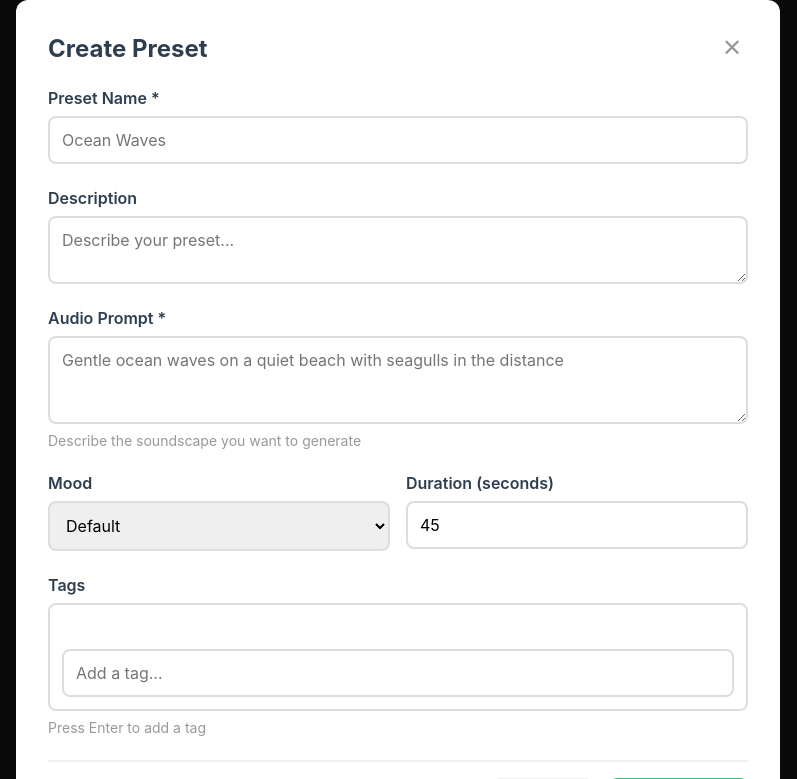
Test: PresetEditor › adds tag when enter is pressed
The width and height of the screenshot is (797, 779).
Type "nature" into the field with placeholder "Add a tag..." at (398, 673), box [62, 649, 734, 697]
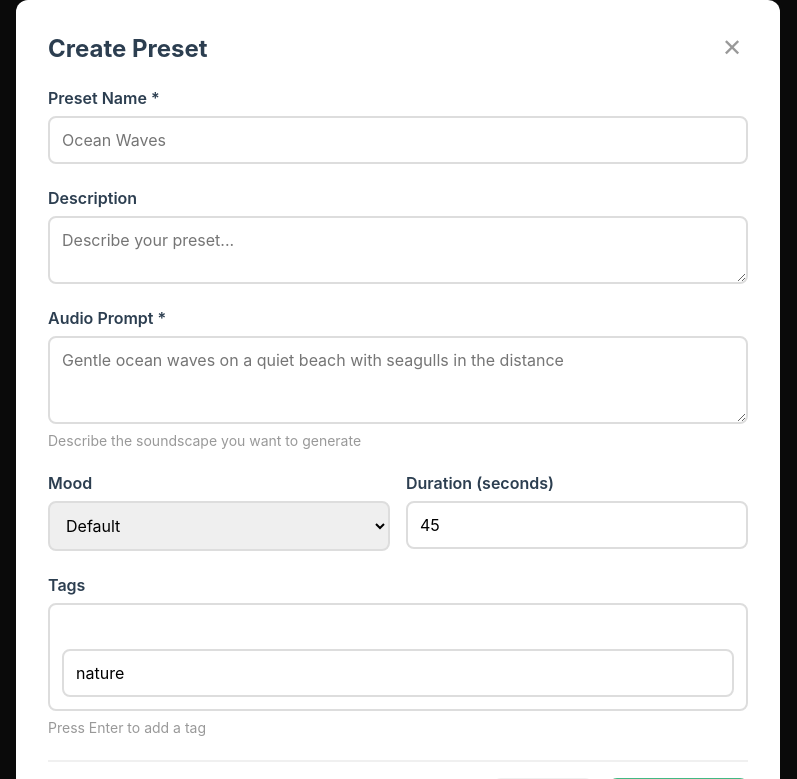
Press Enter in the 2nd field, box [62, 649, 734, 697]
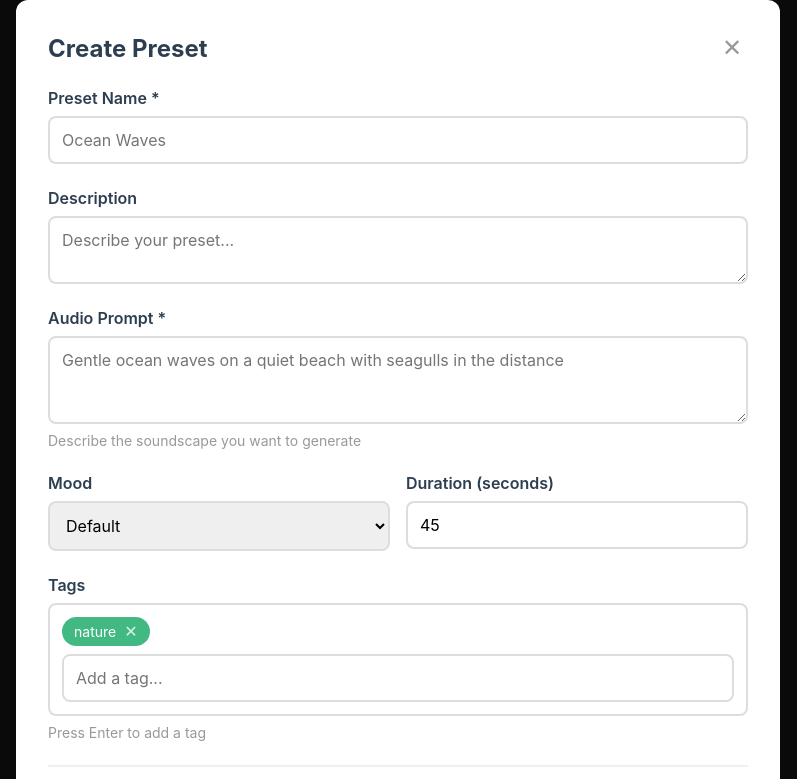
Expected: the text "nature" is shown, [74, 623, 116, 640]
